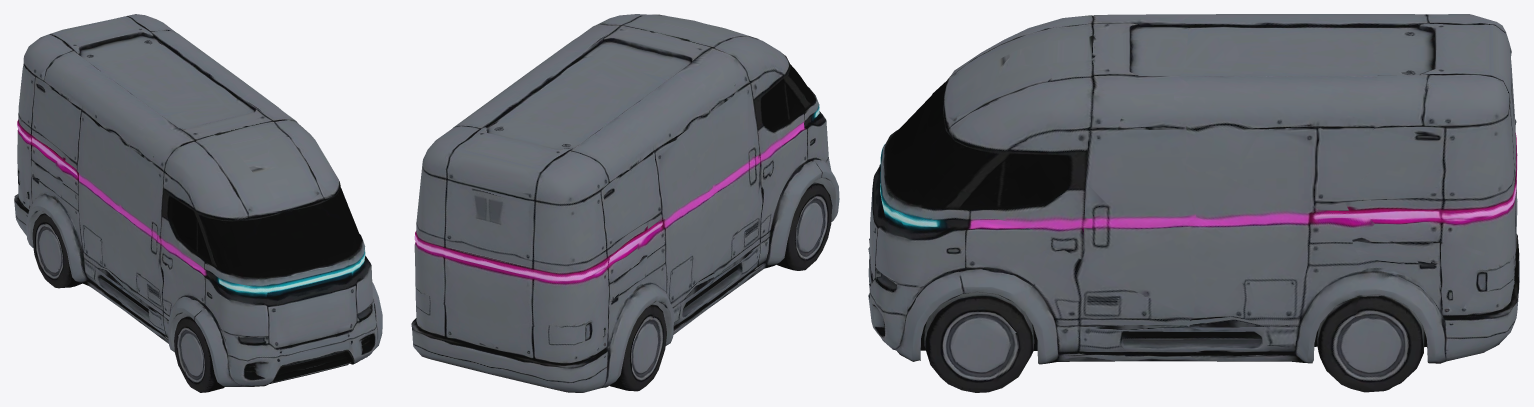
File: prop-van.glb
The picture shows the model from 3 angles, left to right: view 1: azimuth 30°, elevation 25°; view 2: azimuth 150°, elevation 25°; view 3: azimuth 270°, elevation 25°; orthographic projection. The views are drawn at different scales.
Parts seen in each view (by area): view 1: body; view 2: body; view 3: body.
Part boxes in pixels (<box>): body: <box>14,14,382,392</box>; body: <box>411,14,839,392</box>; body: <box>868,14,1519,392</box>.
Bounding box in the file's own units: 0.4244 × 0.4941 × 0.9993.
Materials: 1 (1 with a texture image).
